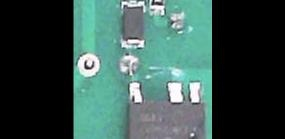chip-resistor: (147, 0, 166, 15)
diode: (117, 0, 147, 49)
ic: (125, 77, 209, 139)
